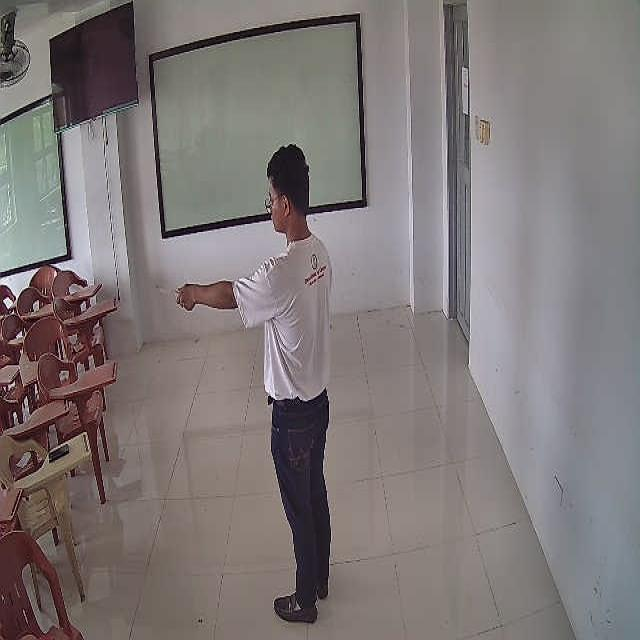knife: (159, 286, 181, 298)
